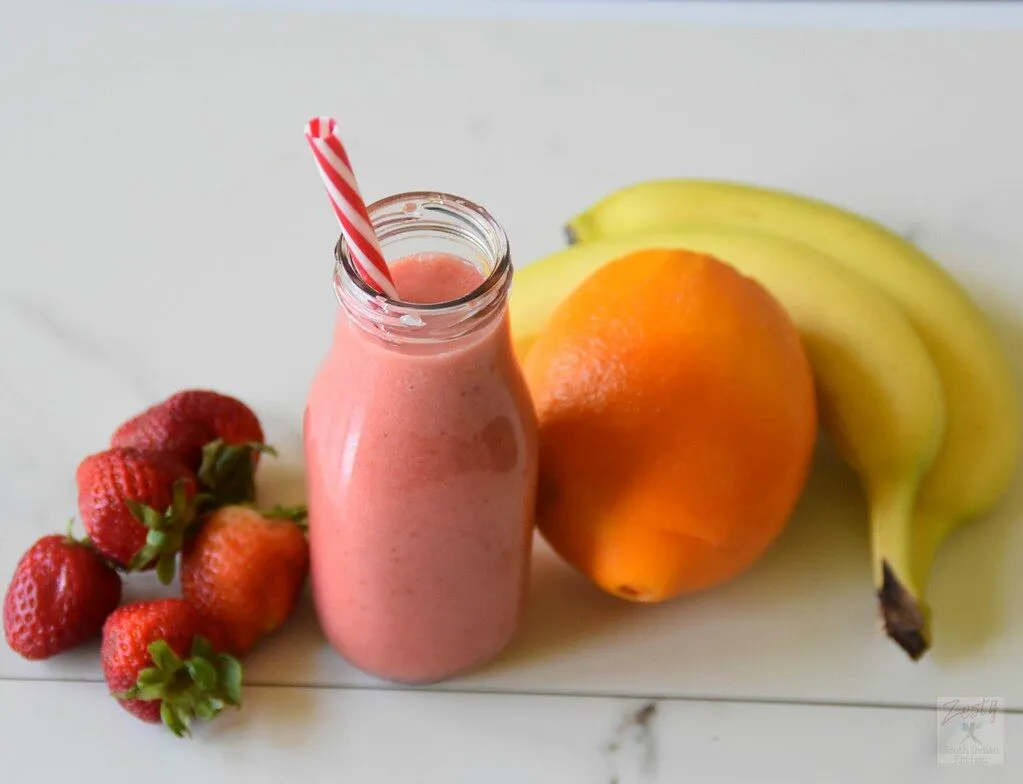Banana: (568, 174, 1021, 673)
Orange: (502, 242, 836, 622)
Strawberry: (89, 385, 276, 538), (84, 586, 256, 751), (173, 499, 320, 664), (70, 441, 218, 583), (0, 527, 128, 670)
